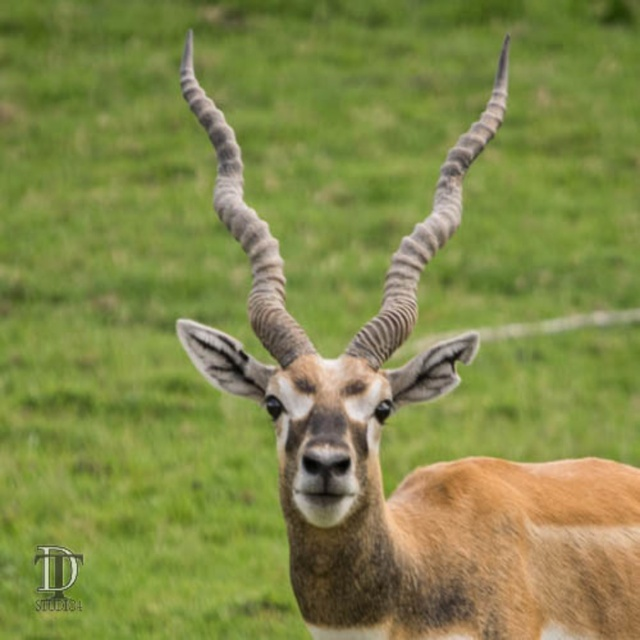Deer: (175, 29, 640, 638)
